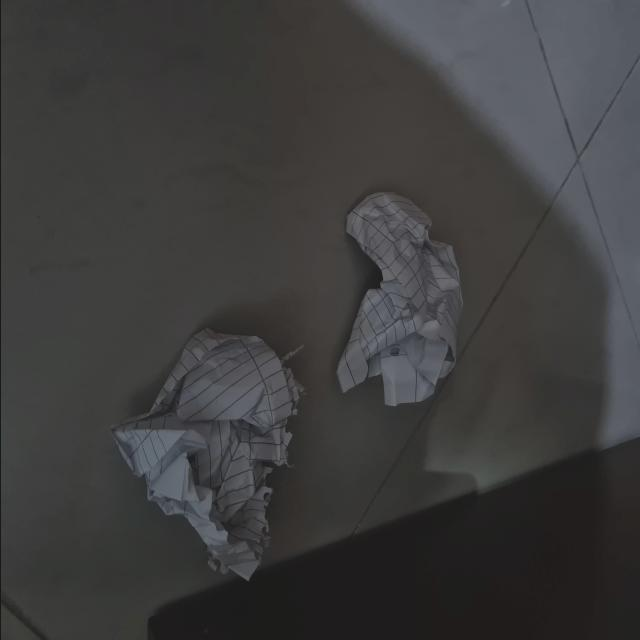Paper: (104, 327, 324, 604), (321, 187, 486, 434)
